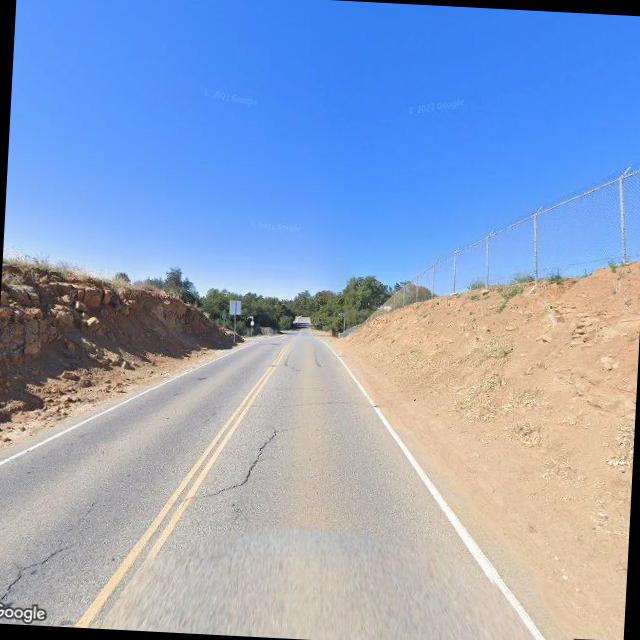pothole: (192, 420, 290, 506), (0, 535, 79, 620)
